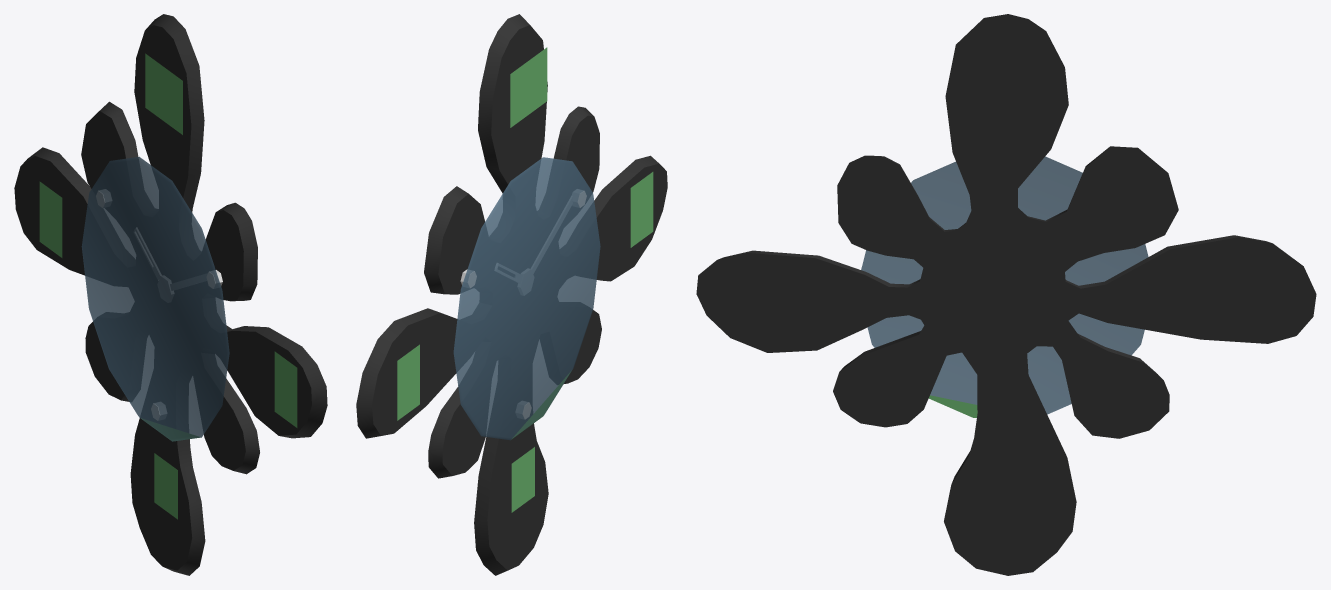
3 views of the same model, side by side, from view 1: azimuth 30°, elevation 25°; view 2: azimuth 150°, elevation 25°; view 3: azimuth 270°, elevation 25° (orthographic).
Parts seen in each view (by area): view 1: 2265R; view 2: 2265R; view 3: 2265R.
Part boxes in pixels (x1,y1,x2,y2): 2265R: (14, 14, 327, 575); 2265R: (356, 14, 667, 575); 2265R: (696, 14, 1316, 575).
Size of the model in its own units: 1.32 by 34.5 by 34.5.
